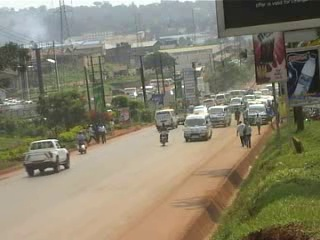Car: (189, 99, 209, 118)
Motorcycle: (157, 128, 170, 148), (75, 137, 88, 155)
